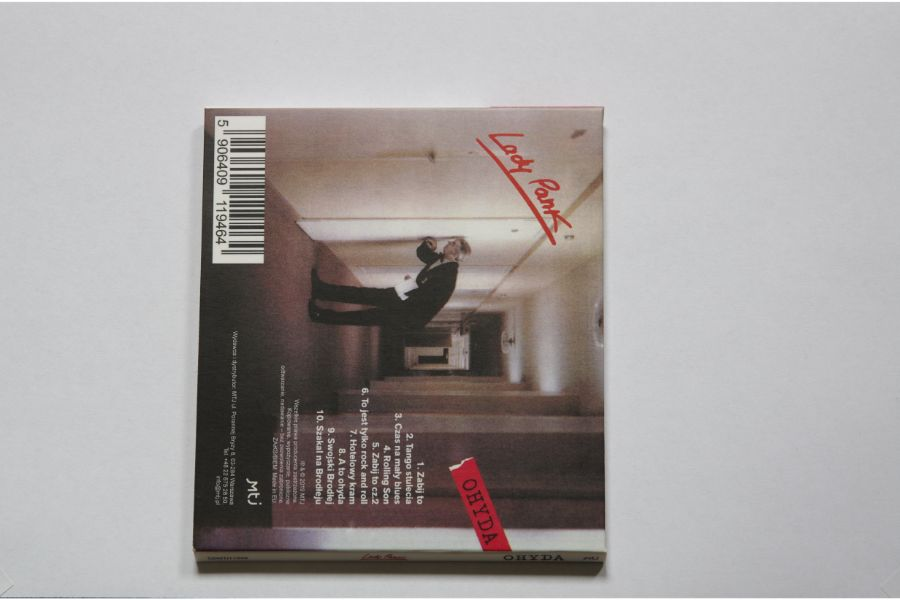album: (190, 106, 609, 566)
